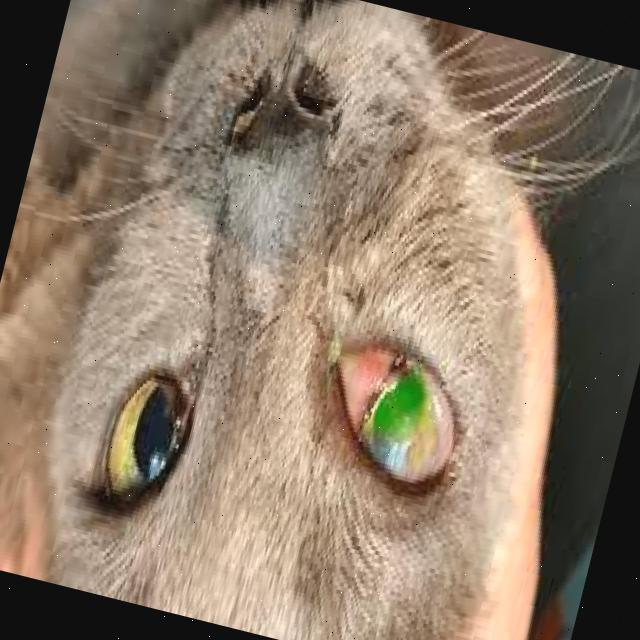cat-eye: (292, 322, 480, 524)
cat-eye-normal: (74, 351, 208, 545)
